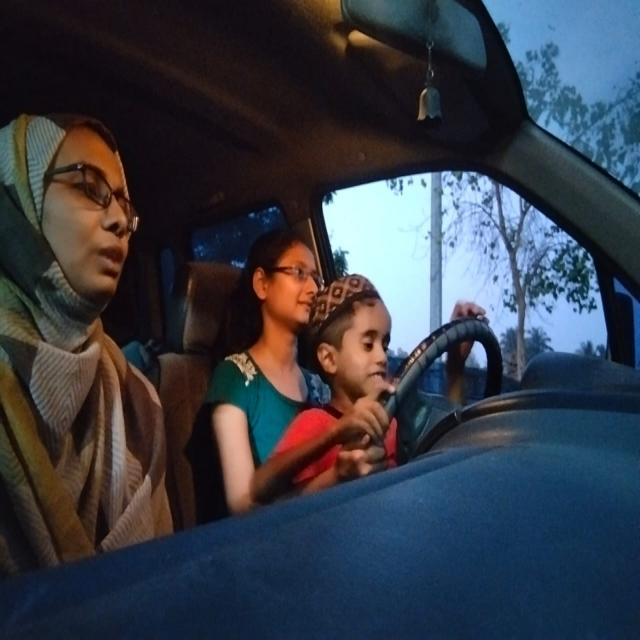child: (308, 267, 400, 401)
person: (2, 100, 148, 332), (245, 225, 325, 334)
